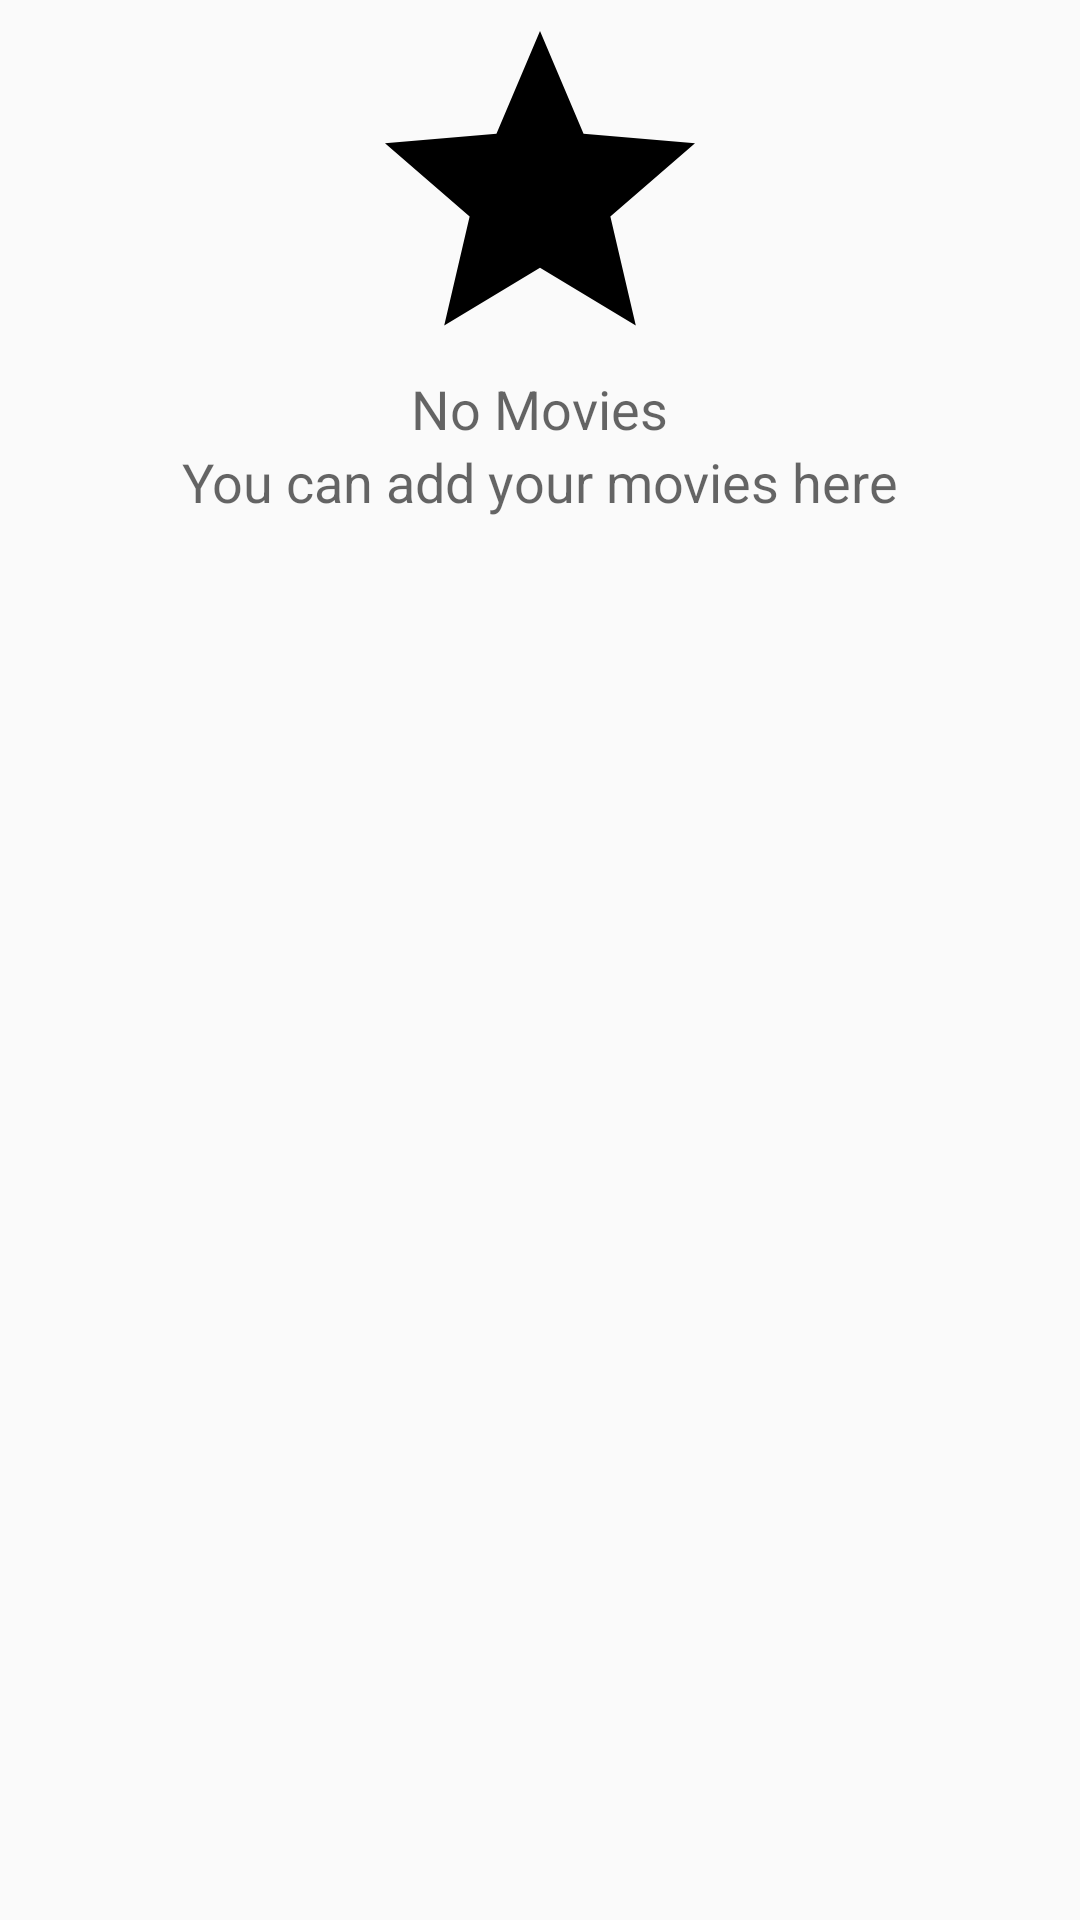

Icon bounding boxes for this 1080x1920 phone screenshot, format (x1, y1, x2, y2):
star: (385, 31, 695, 326)
